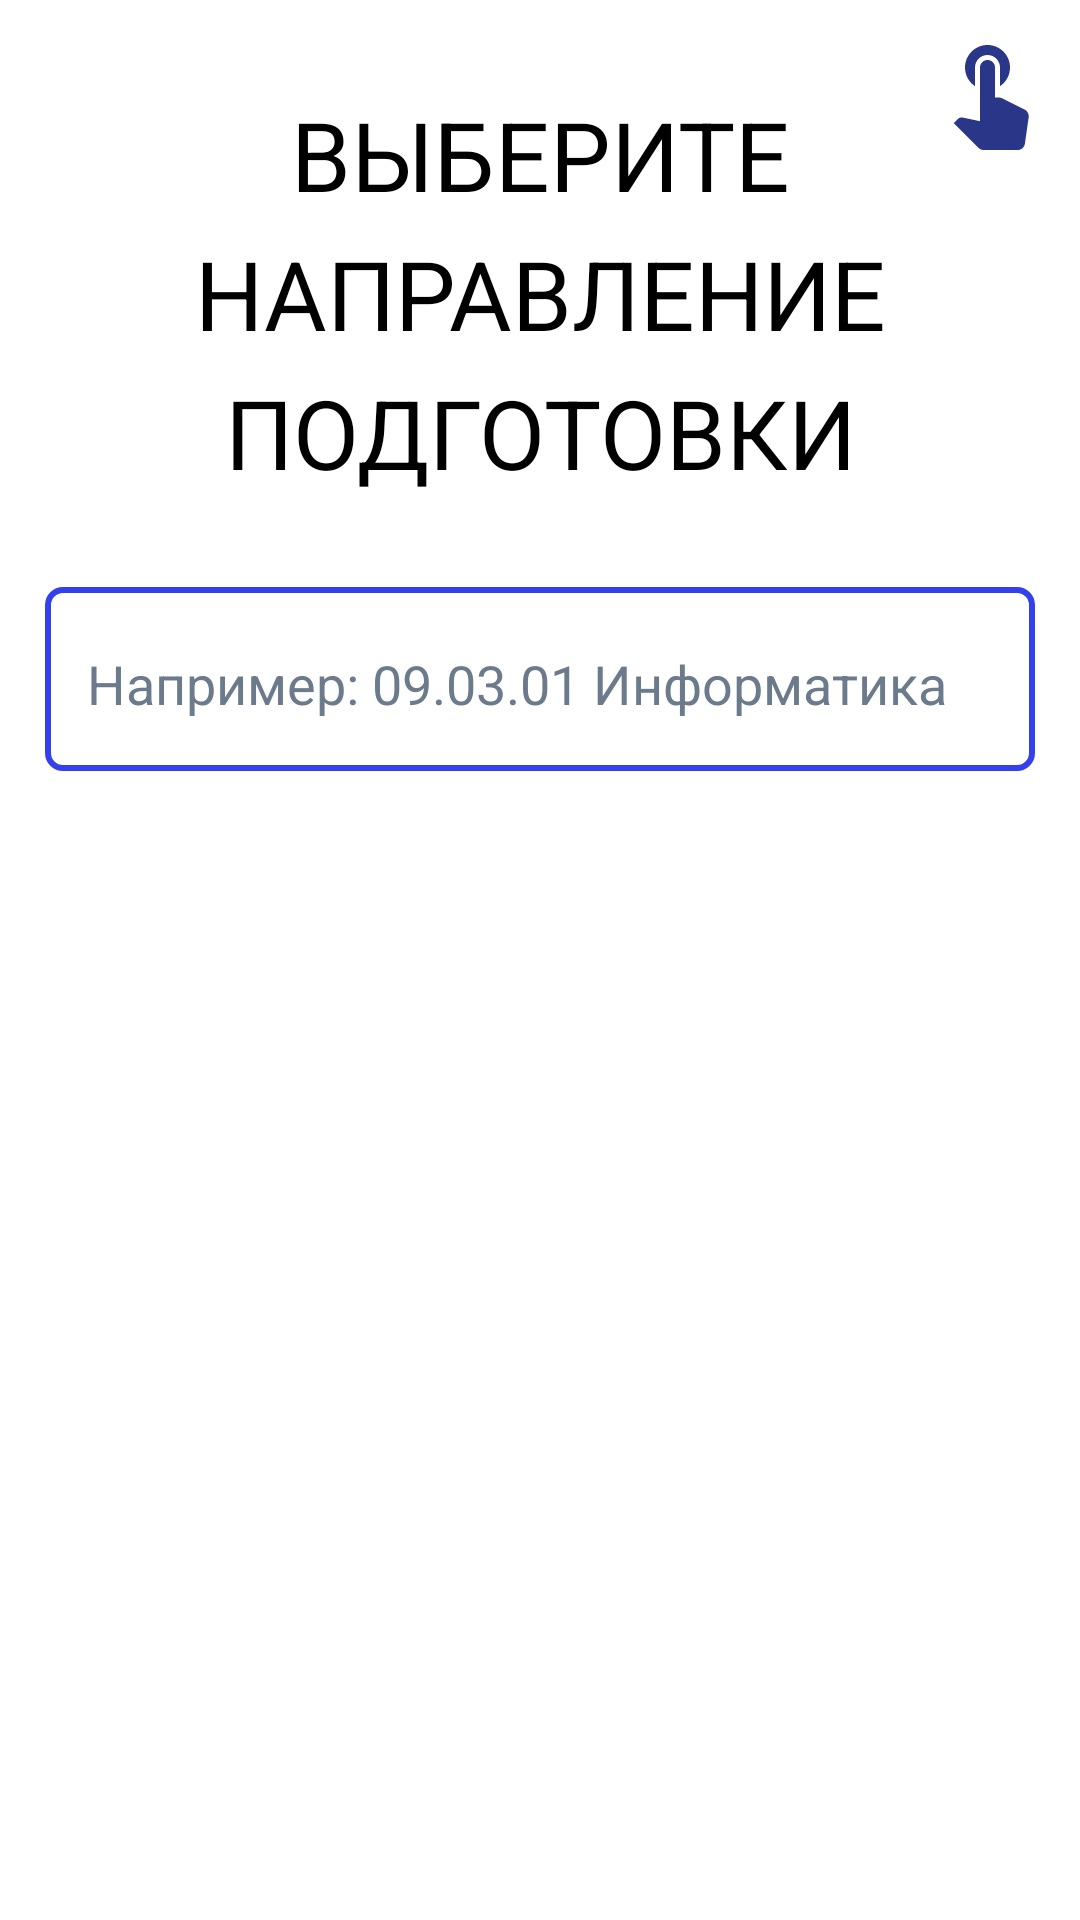

Screen size 1080×1920. Icon name, then its box in pixels as (x1, y1, x2, y2):
touch app: (954, 45, 1029, 150)
